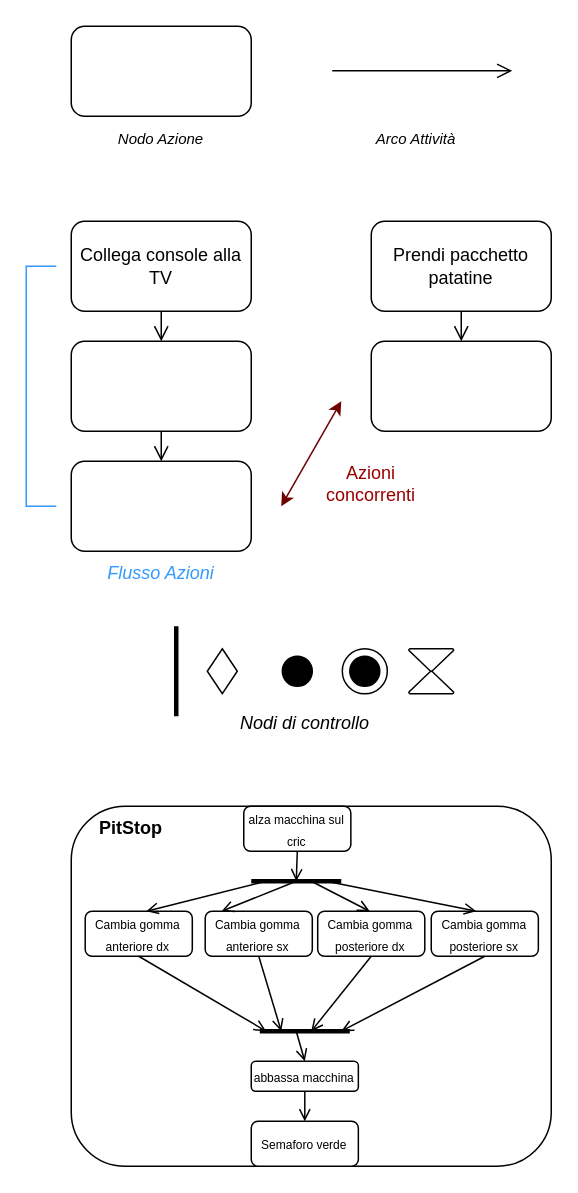
The diagram is 578 pixels wide and 1193 high, and some of its shapes have lost their labels. The shapes that lost their labels are listed below. From the top down, each one's centre as x and y in pixels, then its label:
At pixel 160 70: "(Nome Azione)".
At pixel 160 385: "Collega Controller Alla Console".
At pixel 460 385: "Apri pacchetto".
At pixel 160 505: "Accendi la Console".
